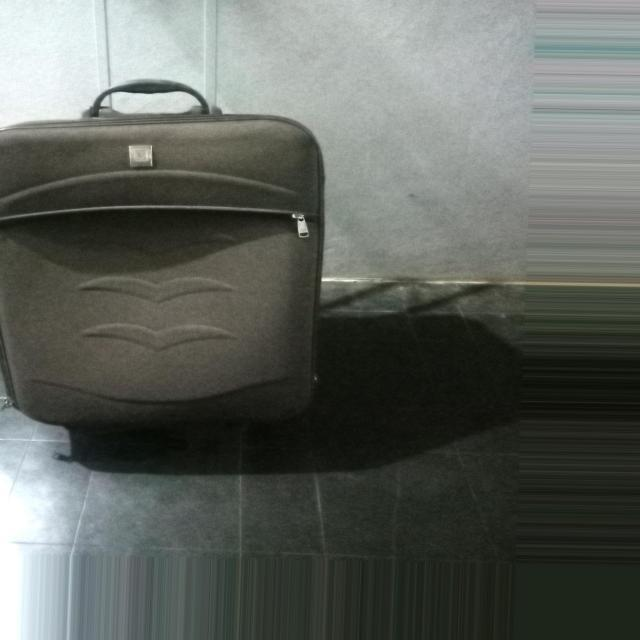Suitcase: (0, 73, 343, 468)
